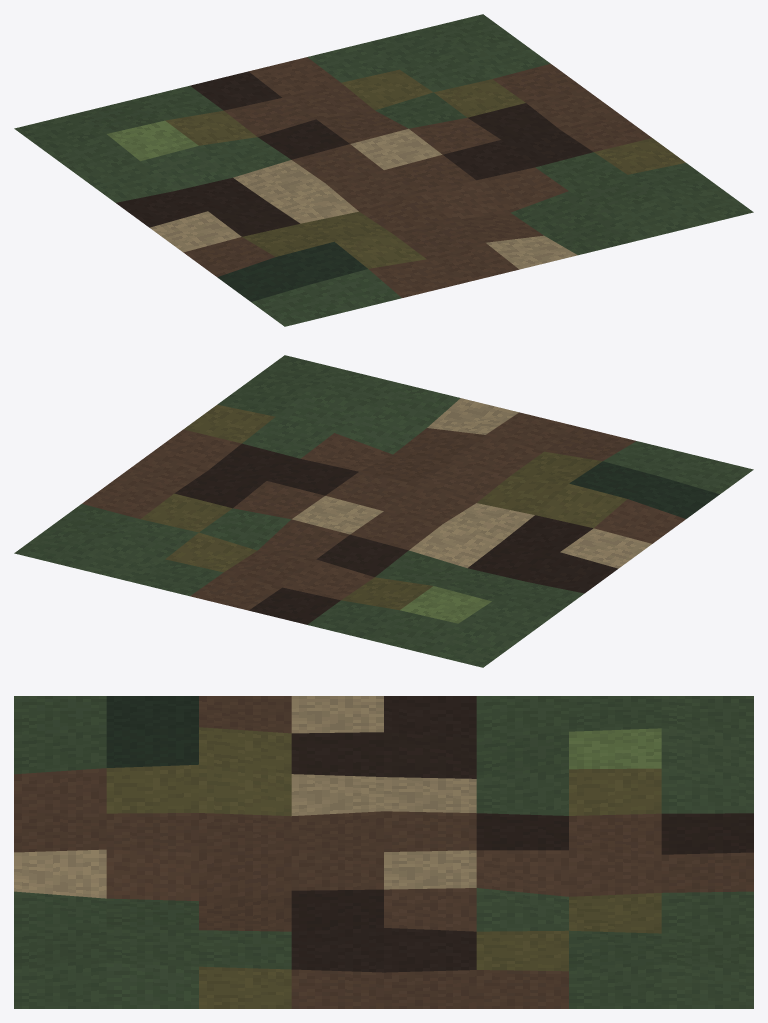
The model's file is terrain_path_cross.glb.
3 renders of one model, top to bottom at view 1: azimuth 30°, elevation 25°; view 2: azimuth 150°, elevation 25°; view 3: azimuth 270°, elevation 25°, orthographic. The views are drawn at different scales.
Visible parts, largest first — view 1: terrain_path_cross; view 2: terrain_path_cross; view 3: terrain_path_cross.
Part boxes in pixels (box(x1,y1,x2,y2)): terrain_path_cross: box(14, 14, 753, 326); terrain_path_cross: box(14, 355, 753, 667); terrain_path_cross: box(14, 696, 753, 1008).
Size of the model in its own units: 8 by 0.2278 by 8.
Materials: 1 (1 with a texture image).
